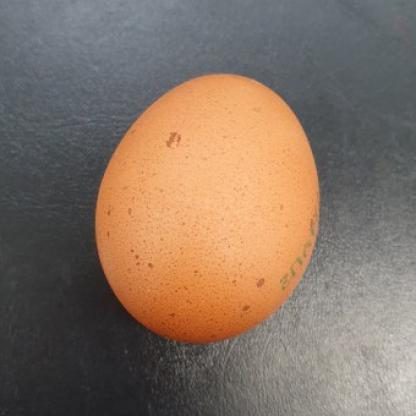egg: (92, 66, 324, 350)
